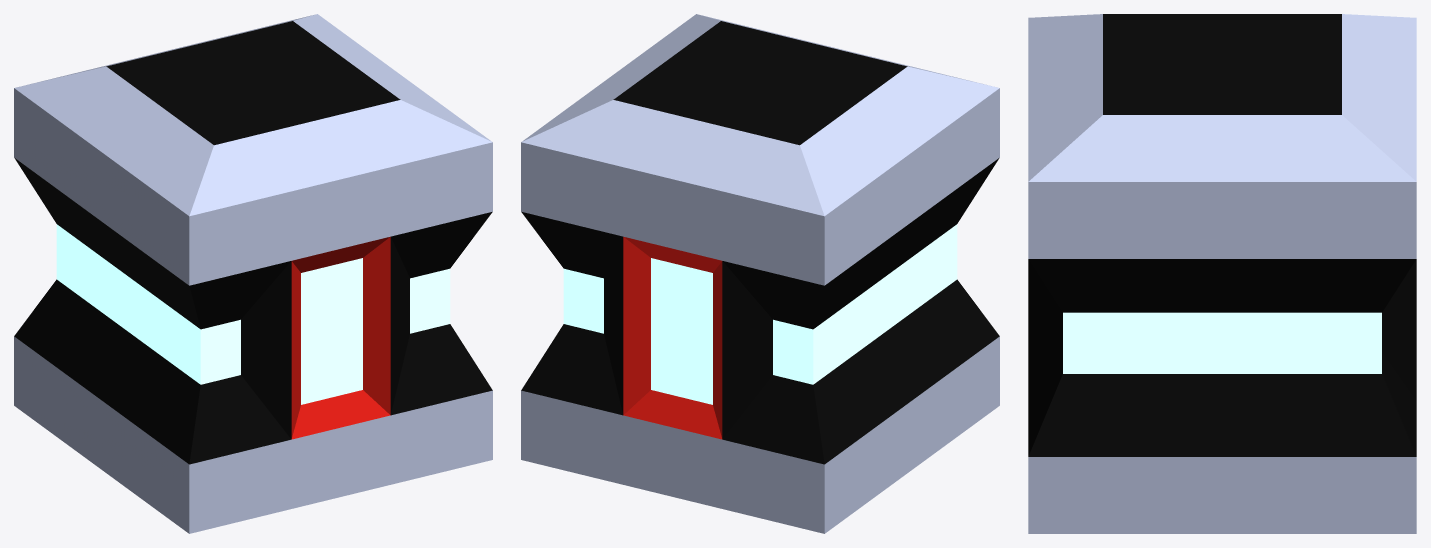
The model's file is DO NOT USE 2.fbx.
3 views of the same model, side by side, from view 1: azimuth 30°, elevation 25°; view 2: azimuth 150°, elevation 25°; view 3: azimuth 270°, elevation 25° (orthographic). The views are drawn at different scales.
Parts seen in each view (by area): view 1: Chest; view 2: Chest; view 3: Chest.
Boxes of the visible parts, bbox=[...] form: Chest: bbox=[14, 14, 492, 533]; Chest: bbox=[521, 14, 999, 533]; Chest: bbox=[1028, 14, 1416, 533].
Size of the model in its own units: 200 by 220 by 200.
